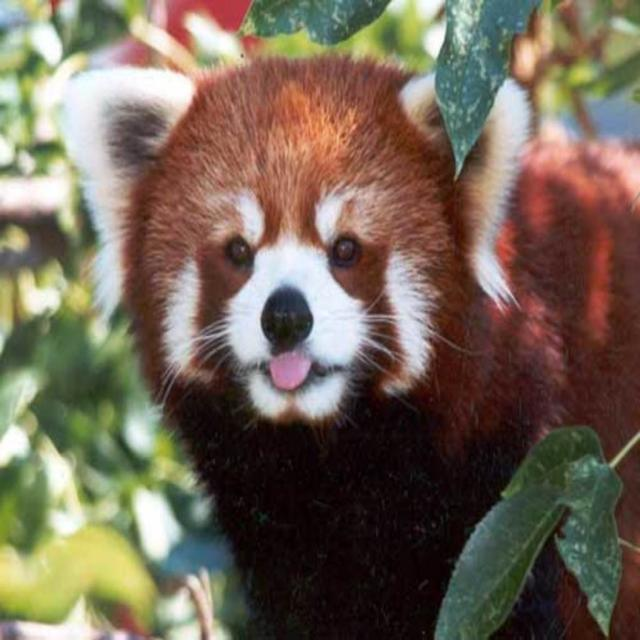Bear: (33, 44, 640, 640)
